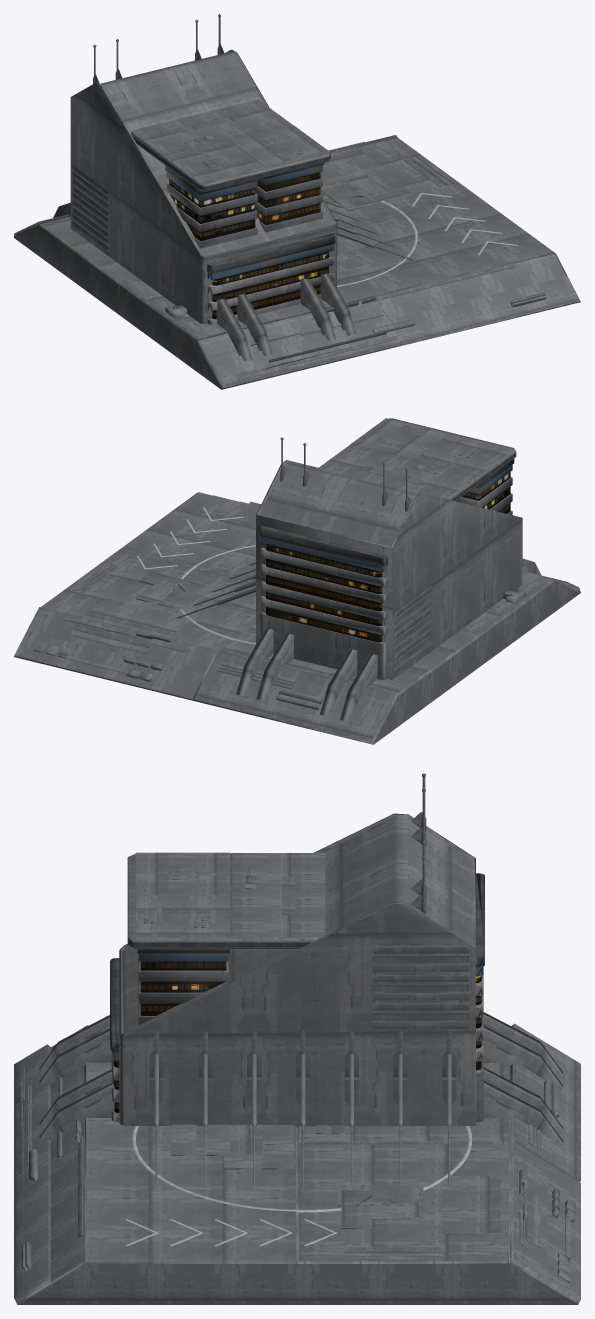
Rendered from CityBlock005.fbx.
3 renders of one model, top to bottom at view 1: azimuth 30°, elevation 25°; view 2: azimuth 150°, elevation 25°; view 3: azimuth 270°, elevation 25°, orthographic. The views are drawn at different scales.
Visible parts, largest first — view 1: SMCGBlock45_2448.Shape; view 2: SMCGBlock45_2448.Shape; view 3: SMCGBlock45_2448.Shape.
Part boxes in pixels (box(x1,y1,x2,y2)): SMCGBlock45_2448.Shape: box(14, 14, 580, 389); SMCGBlock45_2448.Shape: box(14, 418, 580, 744); SMCGBlock45_2448.Shape: box(14, 773, 580, 1304).
Size of the model in its own units: 721 by 439 by 728.
